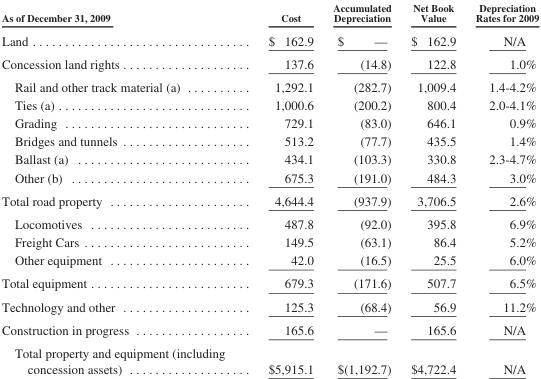table: (0, 1, 538, 375)
table column: (0, 1, 246, 375), (322, 1, 400, 375), (246, 1, 322, 375), (465, 1, 538, 375), (400, 1, 465, 375)
table column header: (0, 1, 538, 28)
table row: (0, 341, 538, 375), (0, 1, 538, 28), (0, 51, 538, 75), (0, 188, 538, 212), (0, 317, 538, 341), (0, 28, 538, 51), (0, 271, 538, 294), (0, 294, 538, 317), (0, 250, 538, 271), (0, 75, 538, 95), (0, 168, 538, 188), (0, 212, 538, 232), (0, 131, 538, 150), (0, 95, 538, 113), (0, 113, 538, 131), (0, 150, 538, 168), (0, 232, 538, 250)
